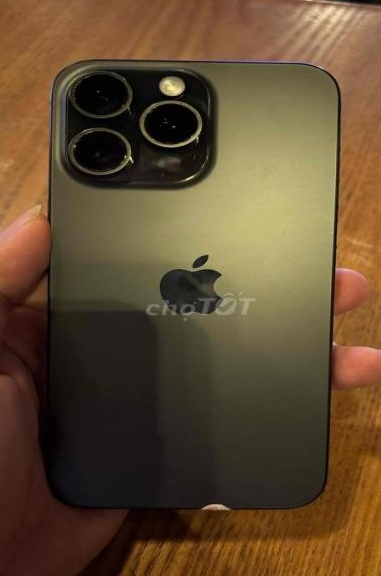scratch: (61, 66, 207, 181)
